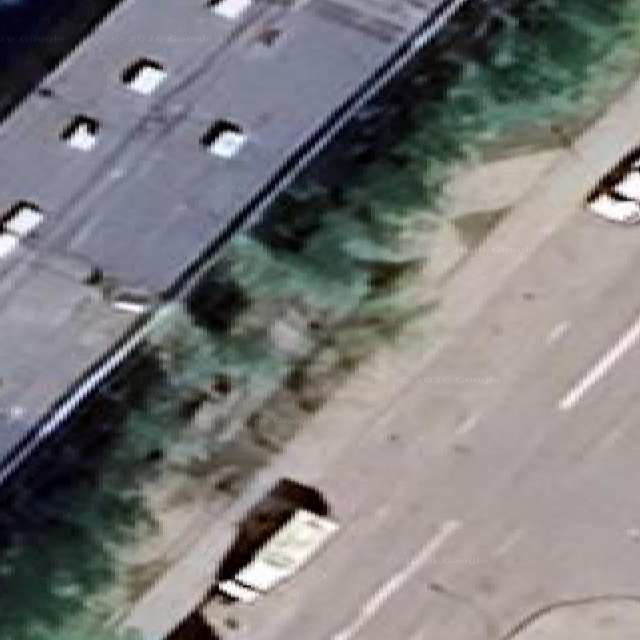car: (588, 161, 639, 223)
